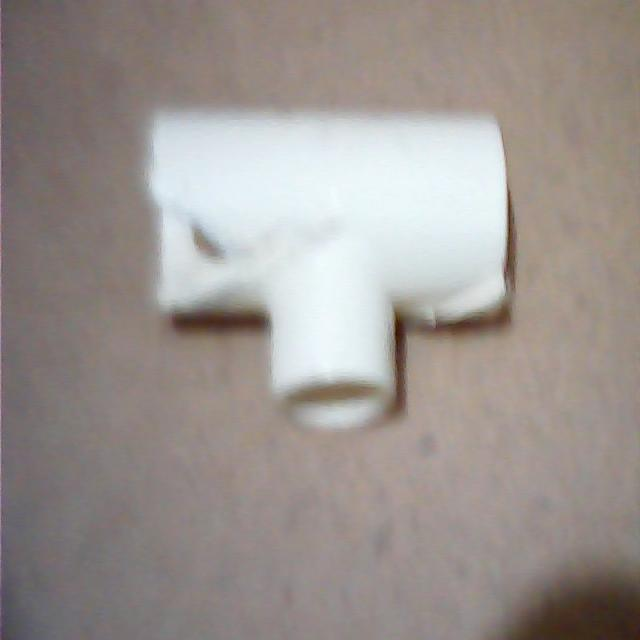Defective: (148, 165, 251, 328), (396, 256, 508, 336)
T Joint: (147, 110, 514, 435)
